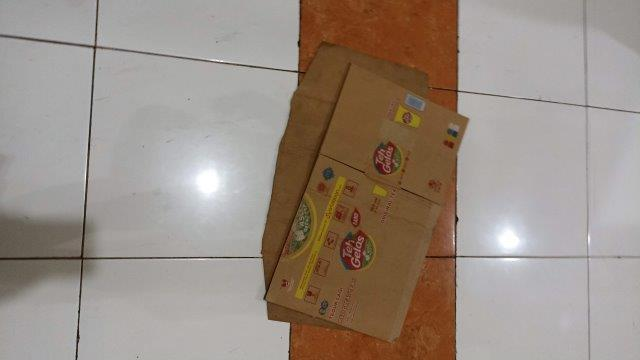kardus: (263, 45, 466, 338)
